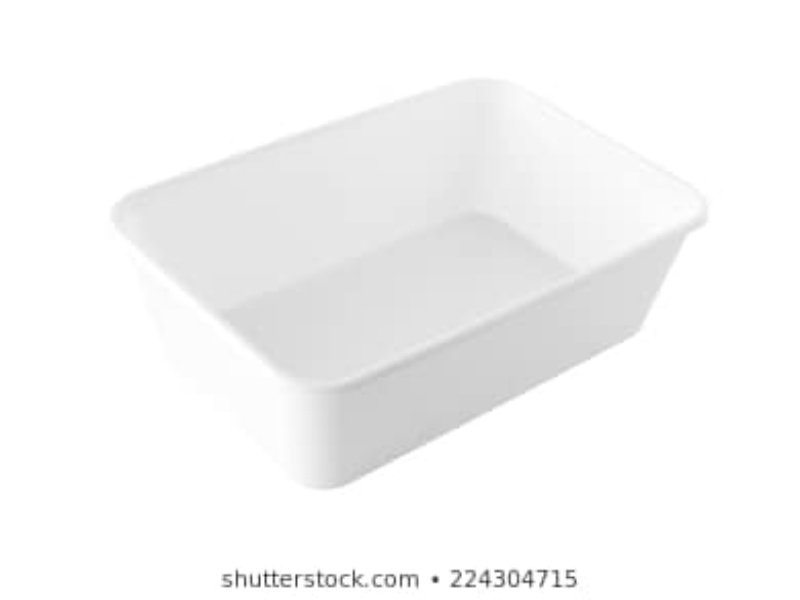plastic-container: (89, 78, 713, 490)
